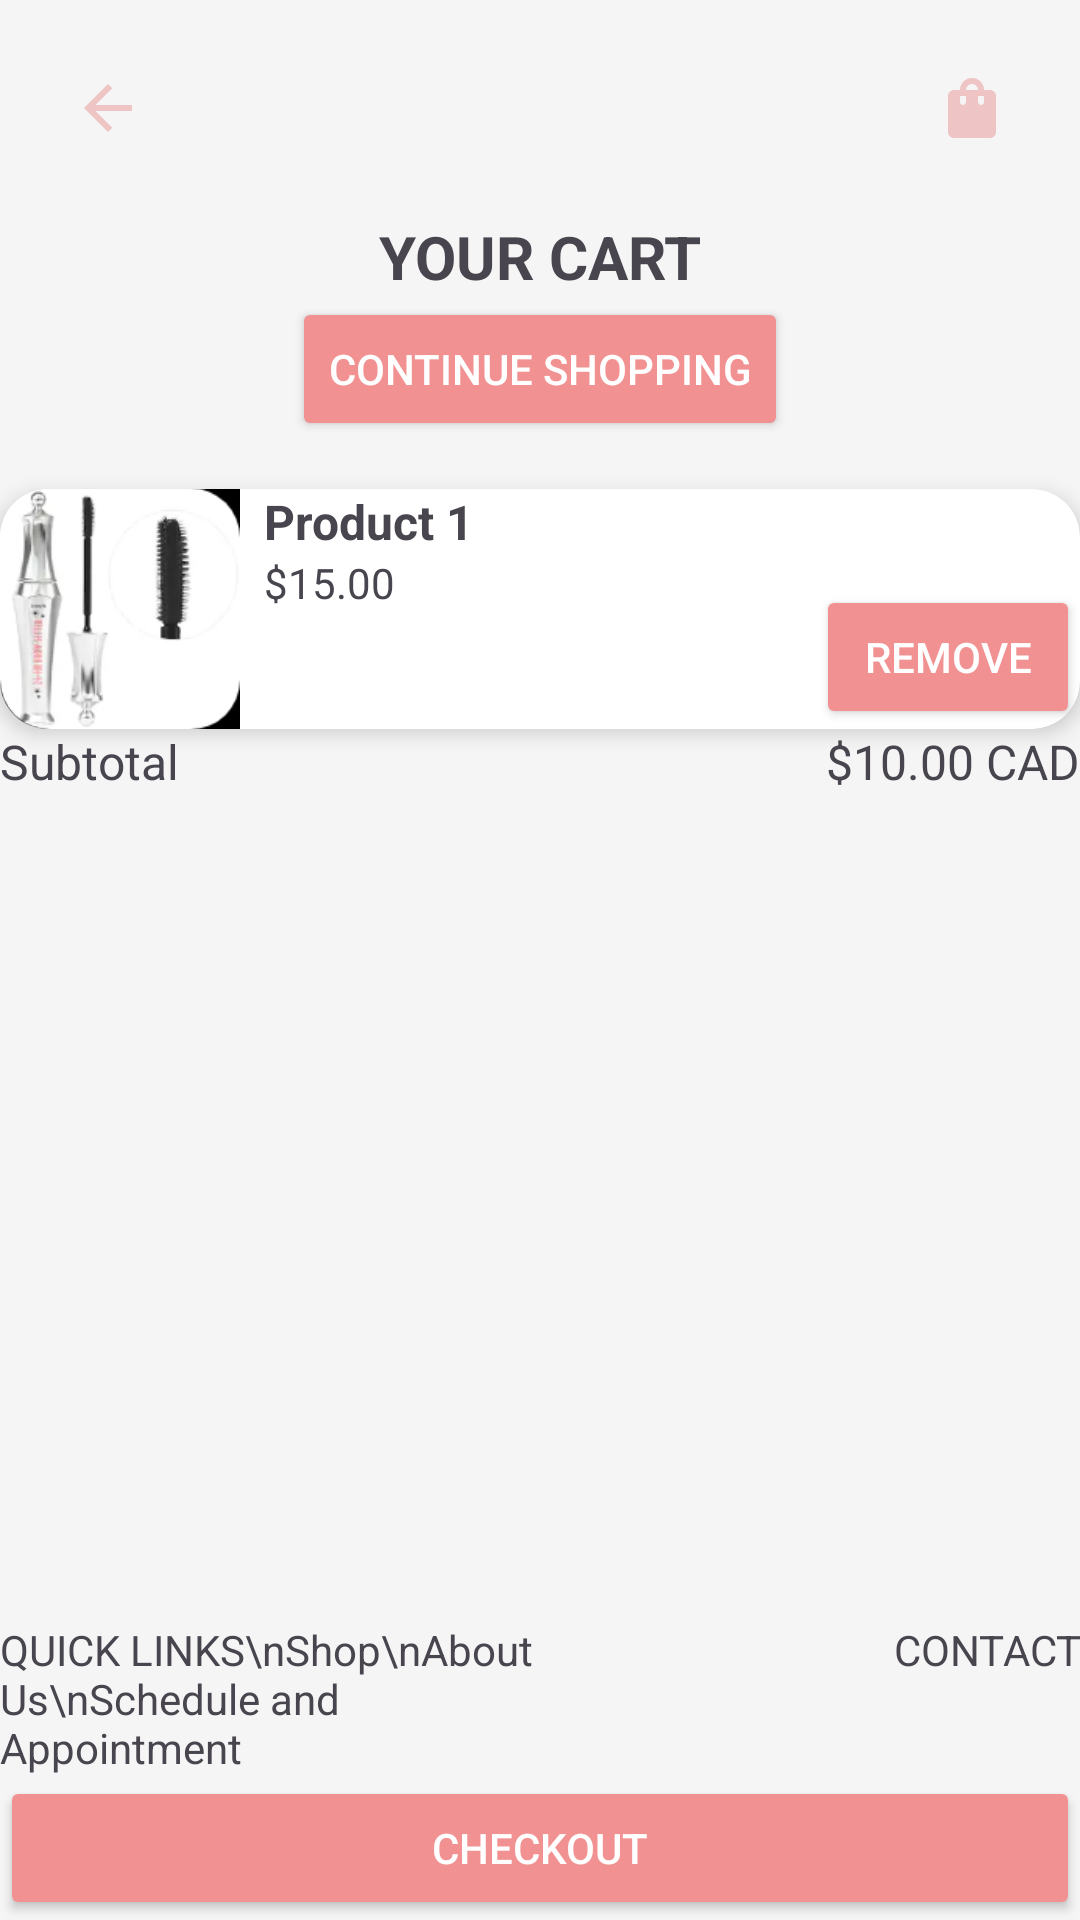

Where icons sit on this 1080*1920 app screen, as (x1, y1, x2, y2):
arrow back: (84, 84, 132, 132)
shopping bag: (948, 78, 996, 138)
